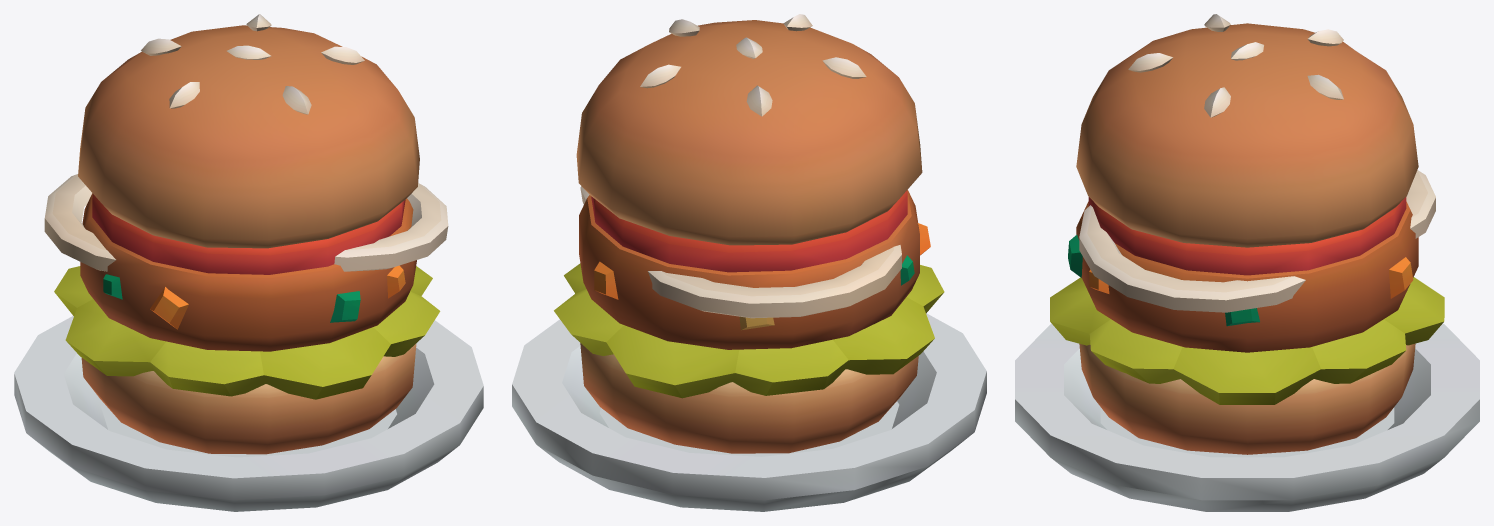
File: kkr.food_vegetableburger.glb
The picture shows the model from 3 angles, left to right: view 1: azimuth 30°, elevation 25°; view 2: azimuth 150°, elevation 25°; view 3: azimuth 270°, elevation 25°; orthographic projection.
Visible parts, largest first — view 1: food_vegetableburger; view 2: food_vegetableburger; view 3: food_vegetableburger.
Boxes of the visible parts, box(x1,y1,x2,y2) form: food_vegetableburger: box(14, 14, 483, 511); food_vegetableburger: box(512, 14, 986, 511); food_vegetableburger: box(1015, 14, 1479, 511).
Size of the model in its own units: 0.2619 by 0.2363 by 0.2619.
Materials: 1 (1 with a texture image).
